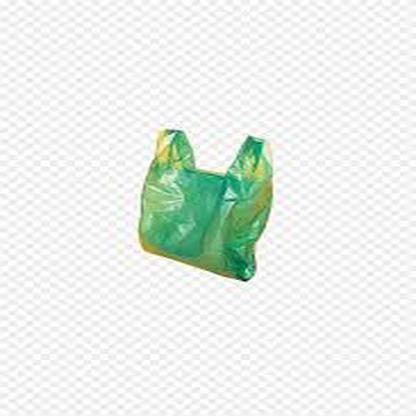plastic bag: (137, 129, 272, 280)
